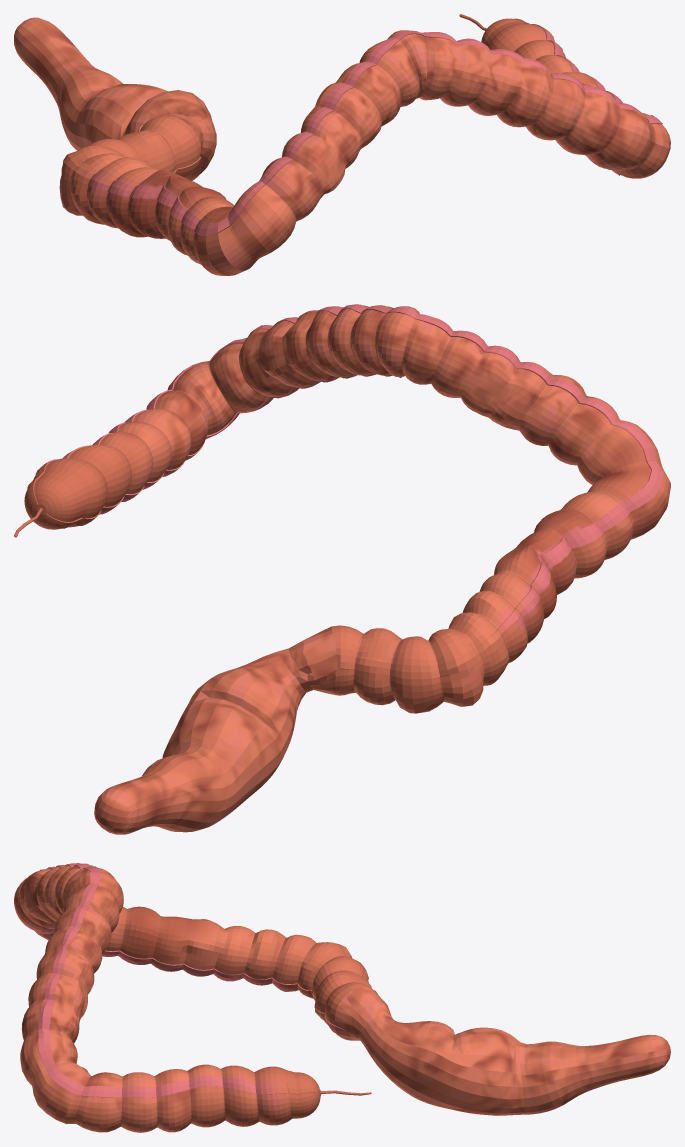
The picture shows the model from 3 angles, top to bottom: view 1: azimuth 30°, elevation 25°; view 2: azimuth 150°, elevation 25°; view 3: azimuth 270°, elevation 25°; orthographic projection. The views are drawn at different scales.
Visible parts, largest first — view 1: large_intestine_001_large_intestine_002; view 2: large_intestine_001_large_intestine_002; view 3: large_intestine_001_large_intestine_002.
Part boxes in pixels (box(x1,y1,x2,y2)): large_intestine_001_large_intestine_002: box(14, 14, 670, 275); large_intestine_001_large_intestine_002: box(14, 304, 670, 834); large_intestine_001_large_intestine_002: box(14, 863, 670, 1132).
Bounding box in the file's own units: 4.11 × 2.47 × 5.69.
Materials: 2 (2 with a texture image).
